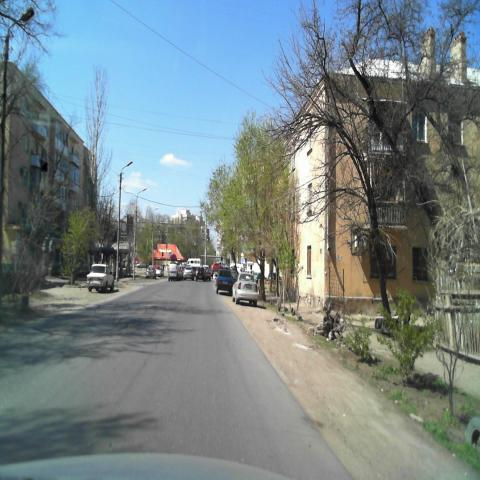3_2: (120, 221, 126, 231)
